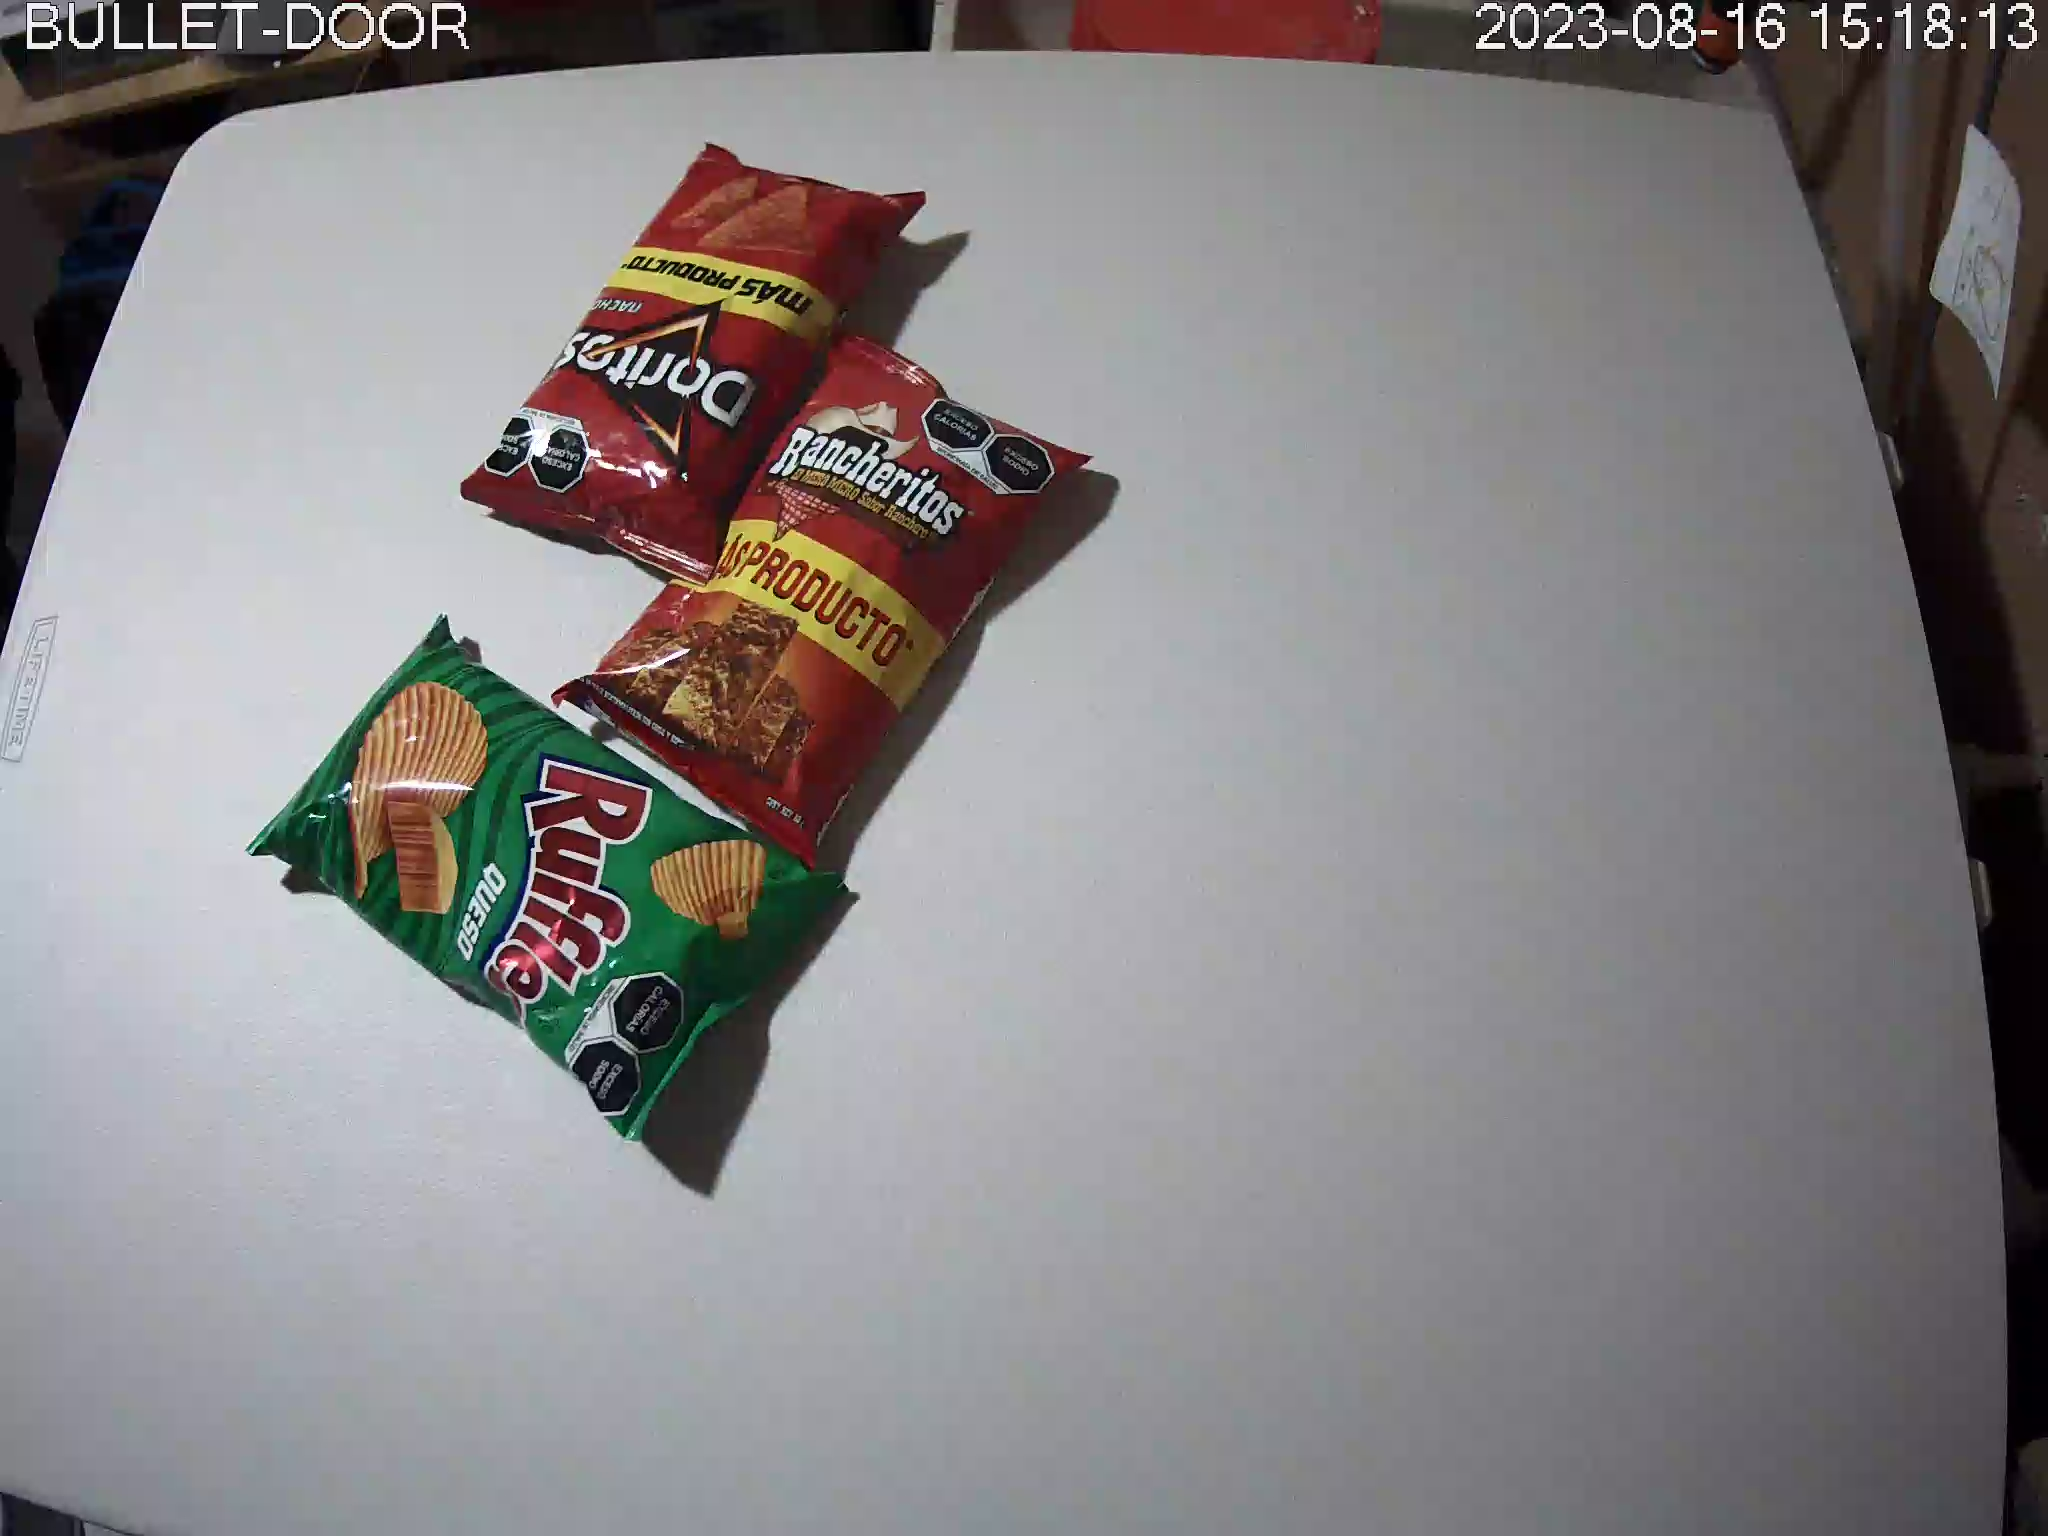DoritosN_61_F: (460, 137, 934, 586)
Rancheritos_58_F: (555, 318, 1097, 876)
RufflesQ_48_F: (248, 611, 845, 1142)
